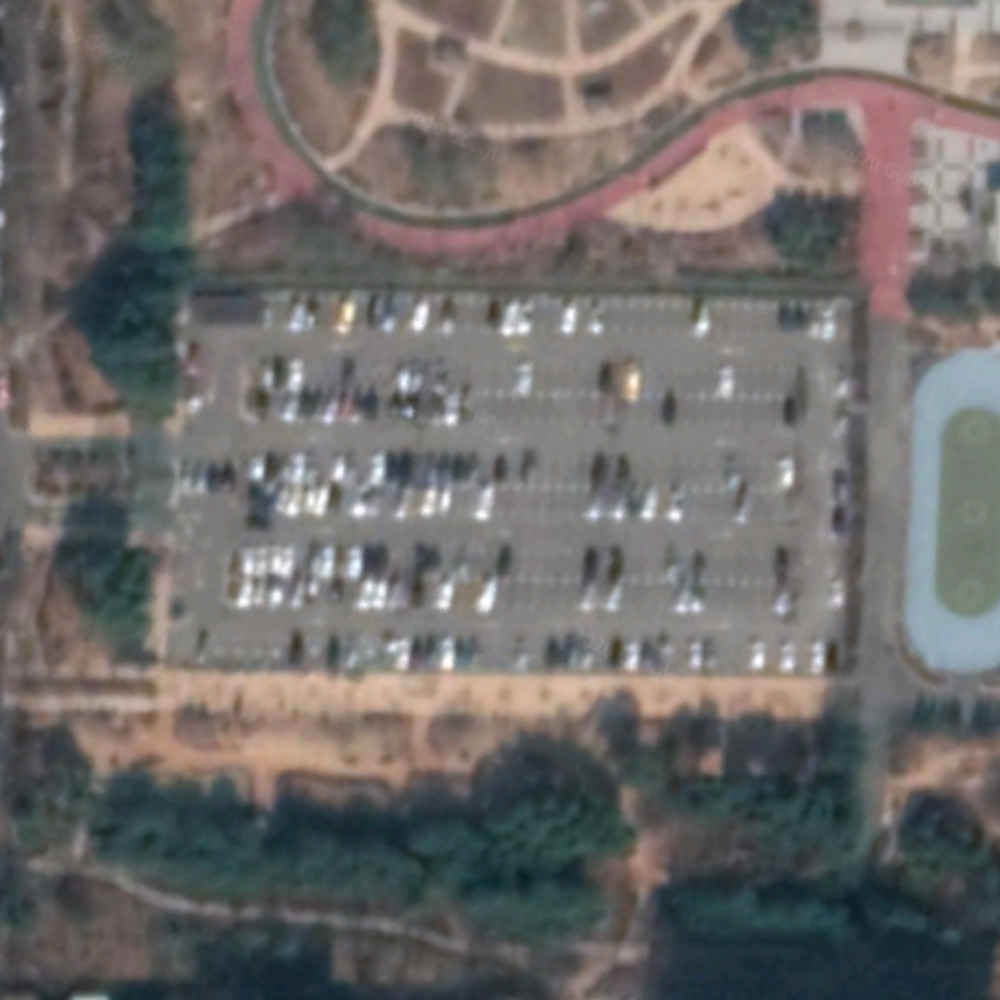parking: (190, 290, 845, 670)
